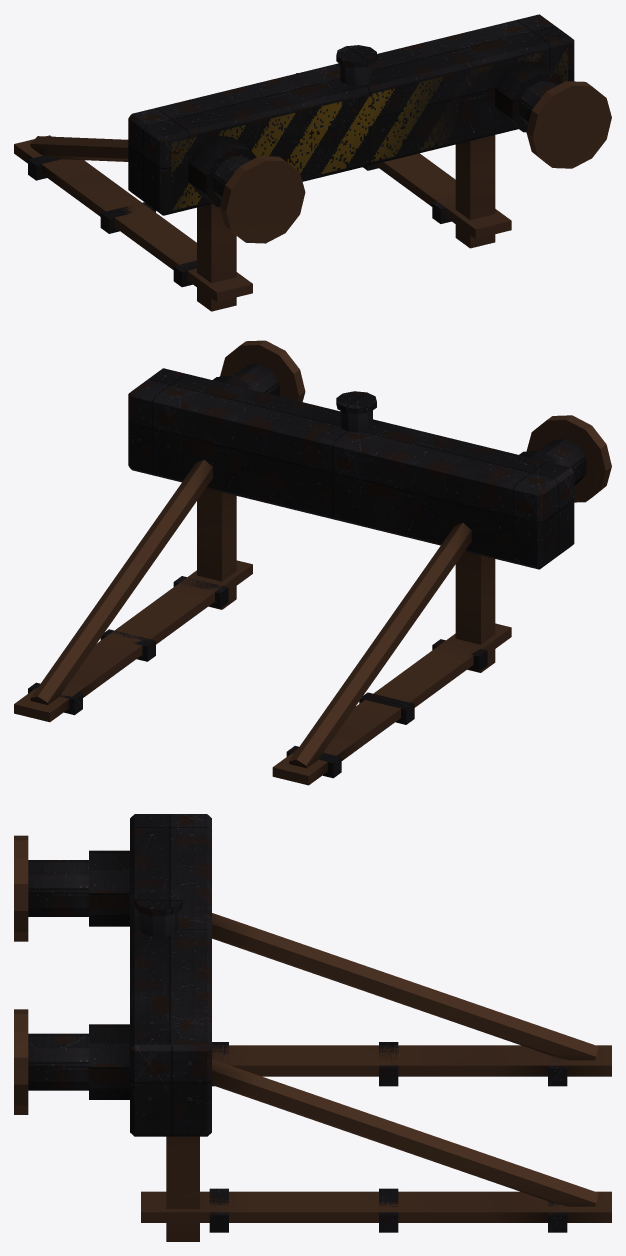
File: rail_buffer.glb
The picture shows the model from 3 angles, top to bottom: view 1: azimuth 30°, elevation 25°; view 2: azimuth 150°, elevation 25°; view 3: azimuth 270°, elevation 25°; orthographic projection. The views are drawn at different scales.
Visible parts, largest first — view 1: body, decals; view 2: body; view 3: body.
Part boxes in pixels (x1,y1,x2,y2): body: [14, 14, 611, 311]; decals: [171, 46, 567, 210]; body: [14, 340, 611, 785]; body: [14, 814, 611, 1241].
Size of what is drawn, in the model's own units: 2.3 by 1.19 by 2.48.
Materials: 5 (3 with a texture image).
